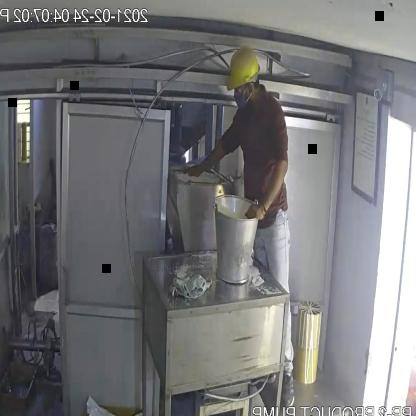helmet: (223, 37, 262, 99)
